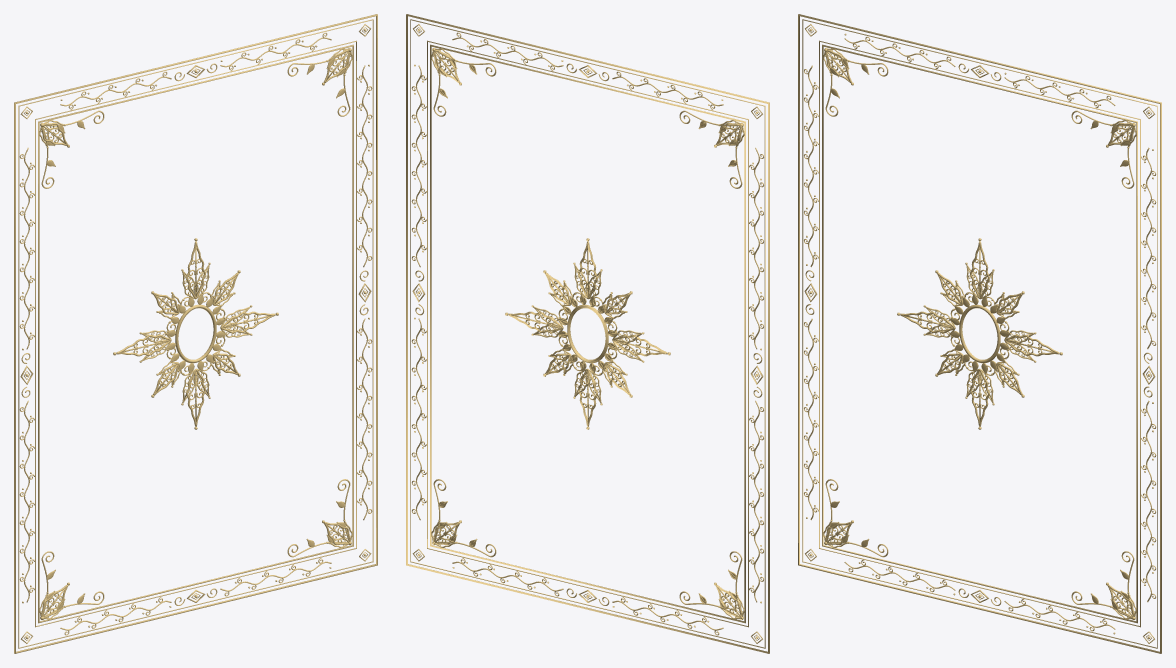
Rendered from gold_back.glb.
3 views of the same model, side by side, from view 1: azimuth 30°, elevation 25°; view 2: azimuth 150°, elevation 25°; view 3: azimuth 330°, elevation 25° (orthographic).
Visible parts, largest first — view 1: GoldBack; view 2: GoldBack; view 3: GoldBack.
Part boxes in pixels (x1,y1,x2,y2): GoldBack: [14, 14, 377, 653]; GoldBack: [406, 14, 769, 653]; GoldBack: [798, 14, 1161, 653].
Size of the model in its own units: 3.22 by 4.67 by 0.0291.
